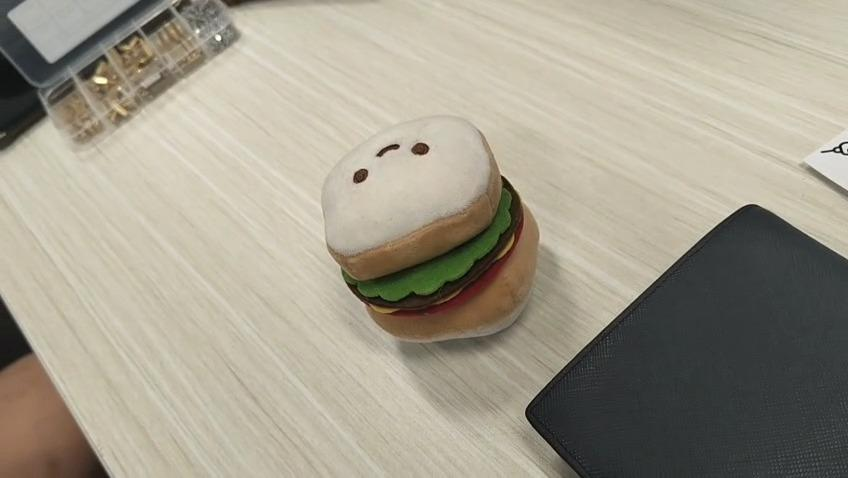objects: (319, 124, 540, 344)
